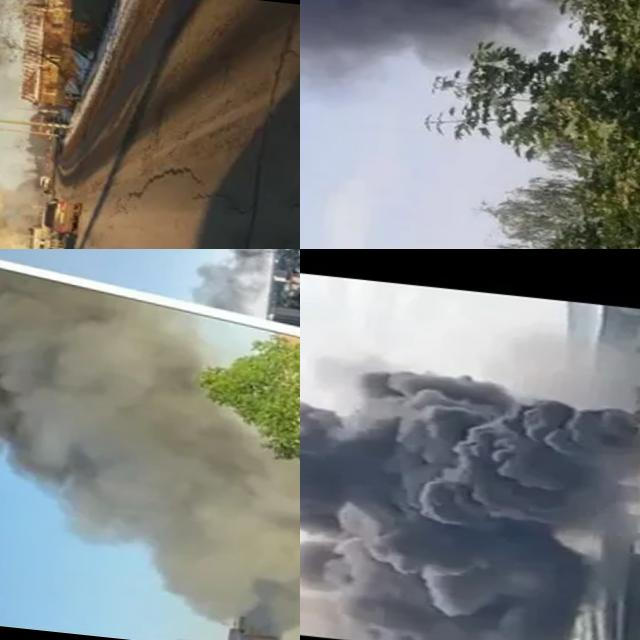smoke: (0, 295, 300, 633), (300, 350, 640, 640), (300, 0, 640, 131), (0, 72, 51, 249), (195, 249, 284, 305)
